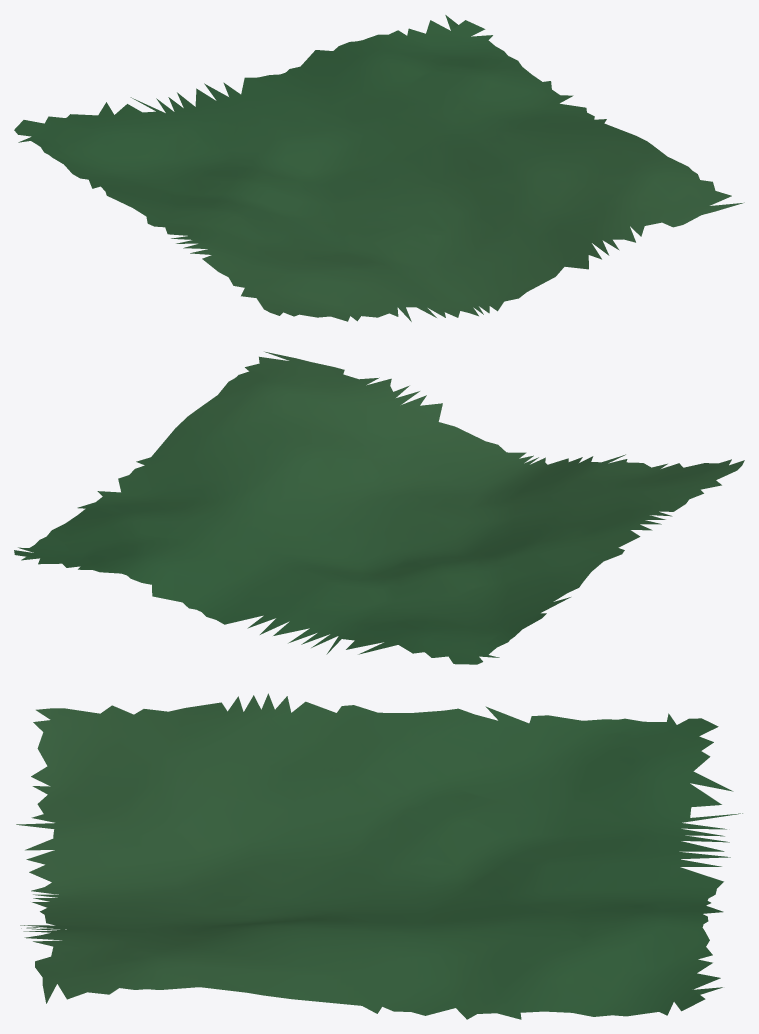
File: payo_land_x2_y7_lod1.glb
The picture shows the model from 3 angles, top to bottom: view 1: azimuth 30°, elevation 25°; view 2: azimuth 150°, elevation 25°; view 3: azimuth 270°, elevation 25°; orthographic projection. The views are drawn at different scales.
Visible parts, largest first — view 1: payo_land_x2_y7; view 2: payo_land_x2_y7; view 3: payo_land_x2_y7.
Boxes of the visible parts, x1,y1,x2,y2 form: payo_land_x2_y7: [14, 15, 744, 321]; payo_land_x2_y7: [14, 351, 744, 664]; payo_land_x2_y7: [16, 693, 742, 1019].
Bounding box in the file's own units: 270 × 29.42 × 281.
